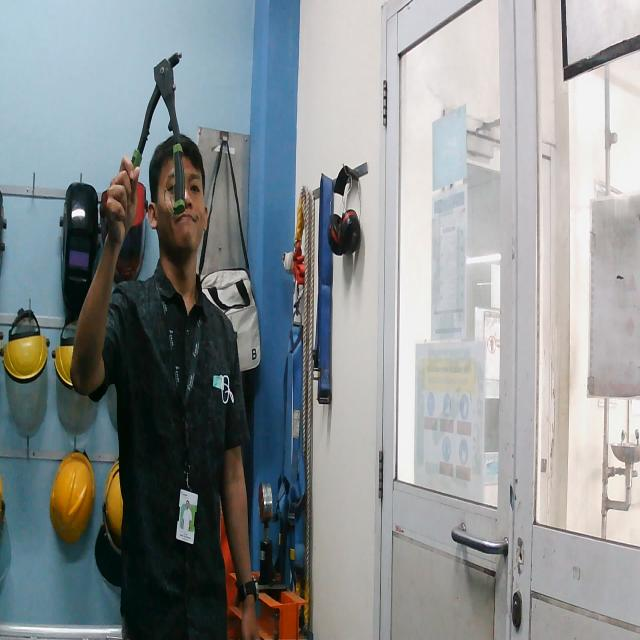tang_rivet: (115, 41, 191, 232)
